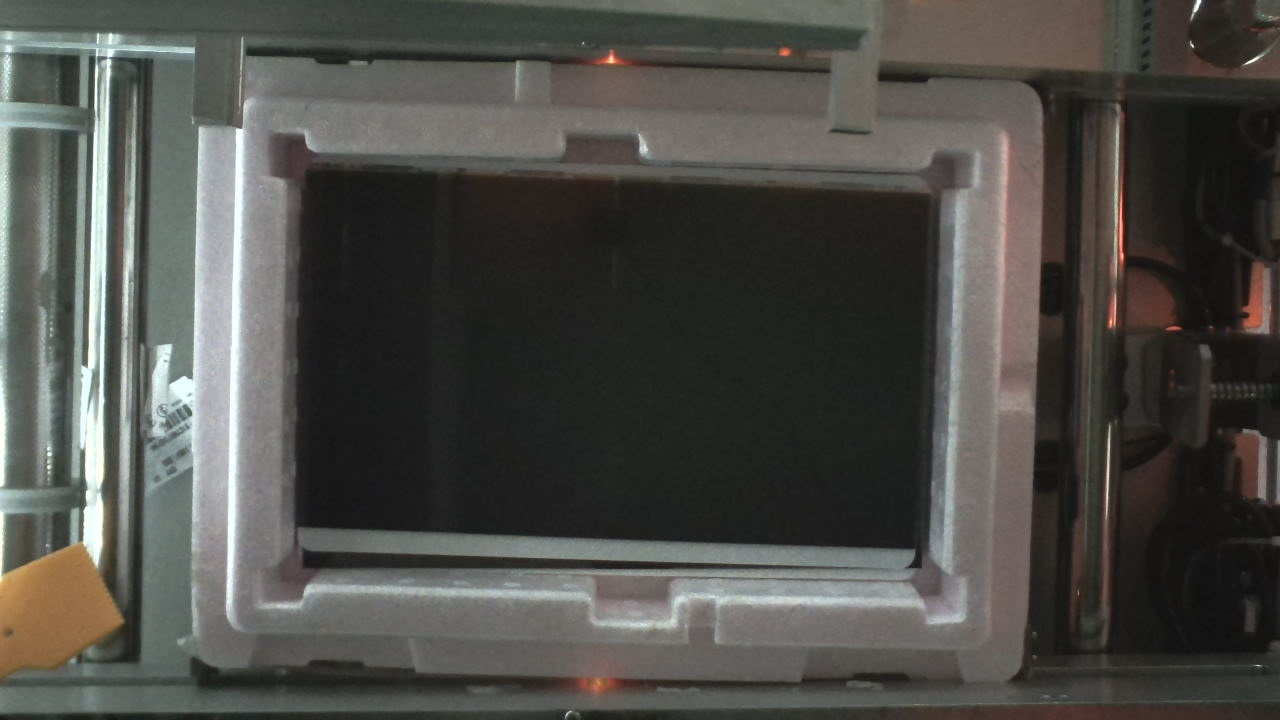OK: (185, 45, 1050, 680)
